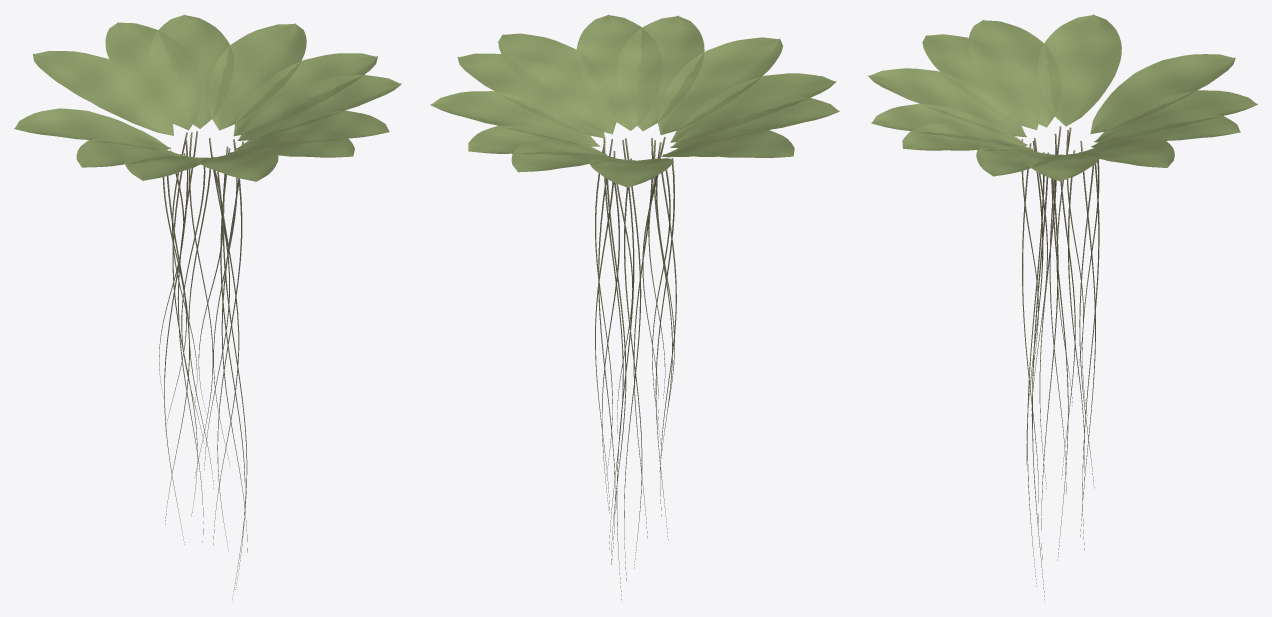
File: waterlettuce-mobile.glb
The picture shows the model from 3 angles, left to right: view 1: azimuth 30°, elevation 25°; view 2: azimuth 150°, elevation 25°; view 3: azimuth 270°, elevation 25°; orthographic projection. The views are drawn at different scales.
Parts seen in each view (by area): view 1: floating-leaf, hanging-root; view 2: floating-leaf, hanging-root; view 3: floating-leaf, hanging-root.
Part boxes in pixels (x1,y1,x2,y2): floating-leaf: (14, 14, 401, 181); hanging-root: (159, 131, 247, 601); floating-leaf: (430, 14, 839, 187); hanging-root: (595, 137, 676, 600); floating-leaf: (868, 14, 1257, 181); hanging-root: (1021, 126, 1099, 600).
Size of the model in its own units: 0.5757 by 0.7999 by 0.5694.
